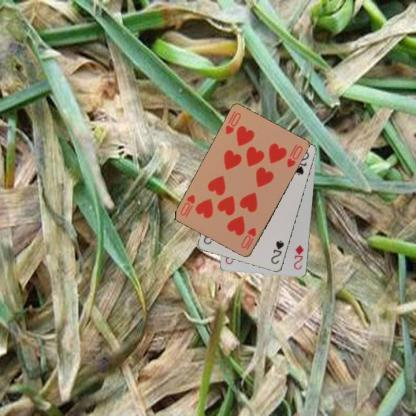10h: (238, 225, 258, 252), (222, 110, 242, 136)
2d: (291, 242, 305, 272)
2s: (268, 238, 286, 266)
